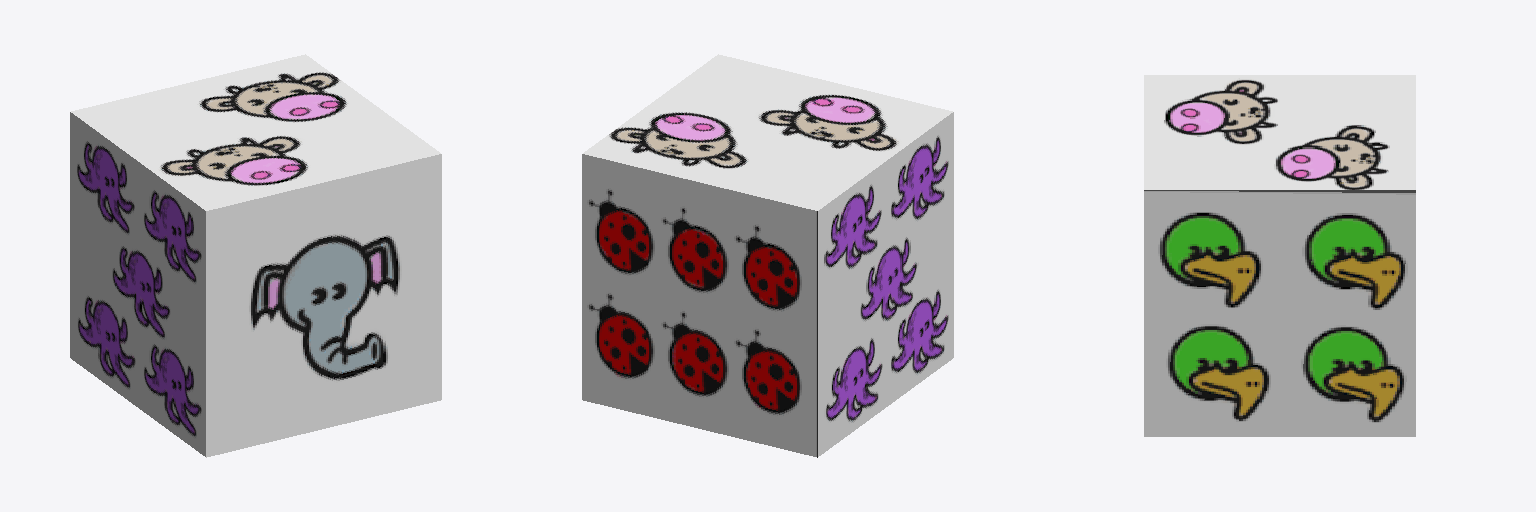
3 renders of one model, left to right at view 1: azimuth 30°, elevation 25°; view 2: azimuth 150°, elevation 25°; view 3: azimuth 270°, elevation 25°, orthographic.
Parts seen in each view (by area): view 1: Box001; view 2: Box001; view 3: Box001.
Boxes of the visible parts, x1,y1,x2,y2 form: Box001: [70, 54, 441, 457]; Box001: [582, 54, 953, 457]; Box001: [1144, 75, 1415, 436].
Size of the model in its own units: 10 by 10 by 10.
1 materials, 1 textured.